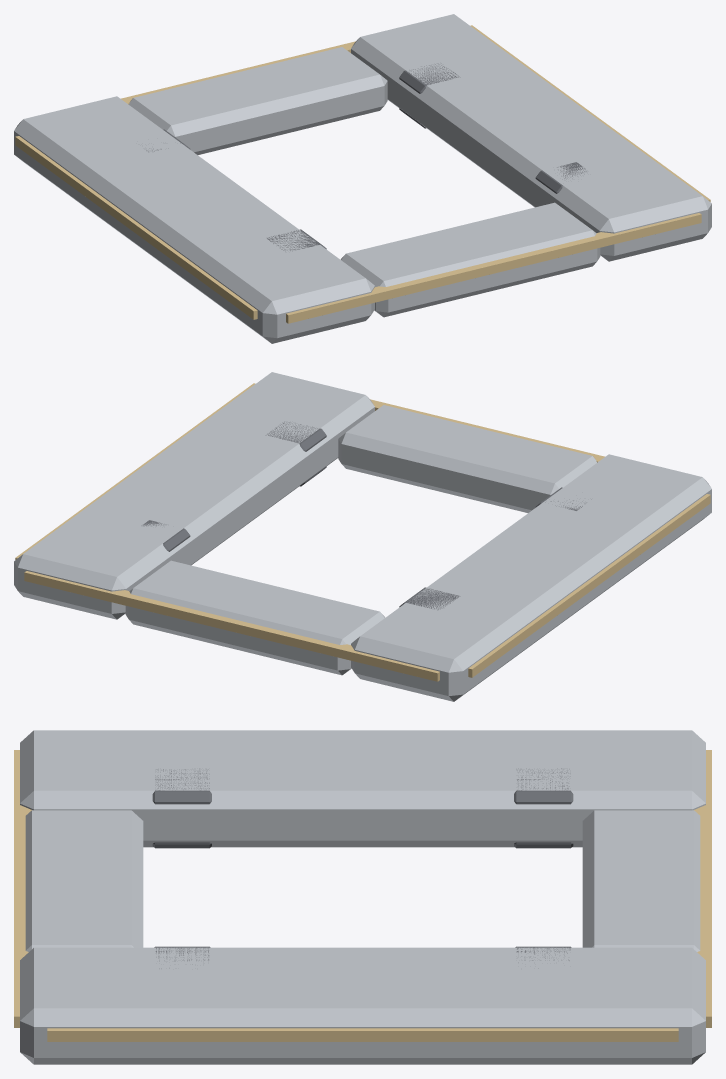
The model's file is bastion.yoke.glb.
3 renders of one model, top to bottom at view 1: azimuth 30°, elevation 25°; view 2: azimuth 150°, elevation 25°; view 3: azimuth 270°, elevation 25°, orthographic. The views are drawn at different scales.
Bounding box in the file's own units: 8.95 × 0.8 × 8.95.
